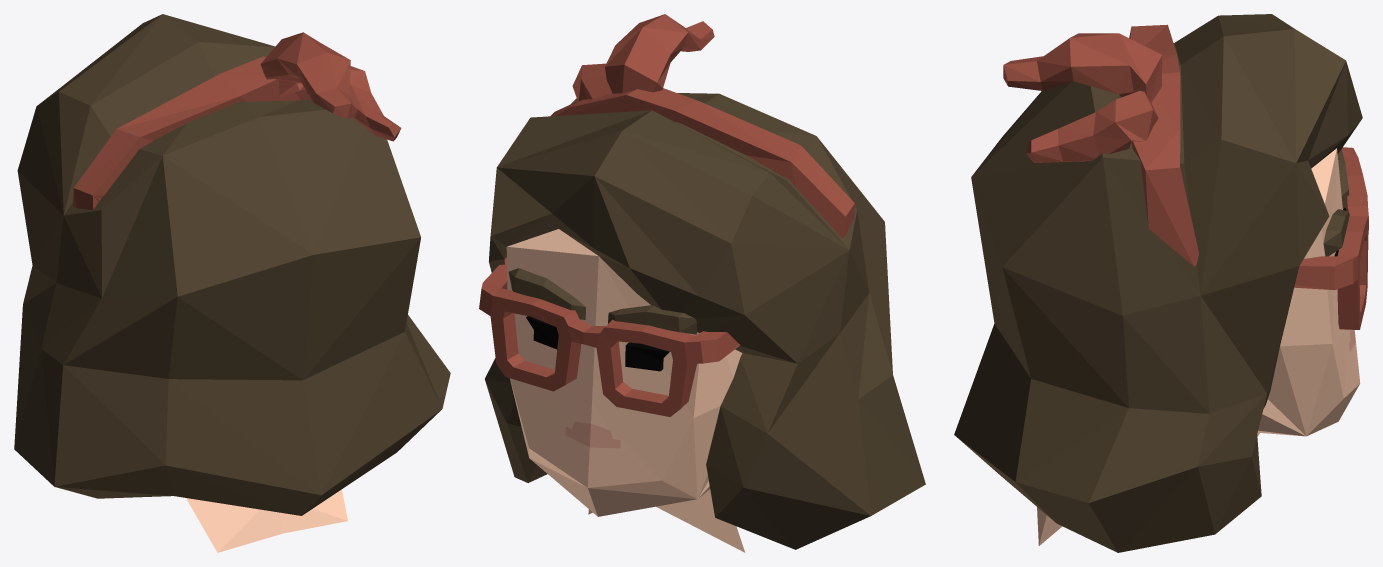
The model's file is Head.obj.
3 renders of one model, left to right at view 1: azimuth 30°, elevation 25°; view 2: azimuth 150°, elevation 25°; view 3: azimuth 270°, elevation 25°, orthographic. The views are drawn at different scales.
Size of the model in its own units: 0.3657 by 0.4118 by 0.3042.
Materials: 1 (1 with a texture image).
